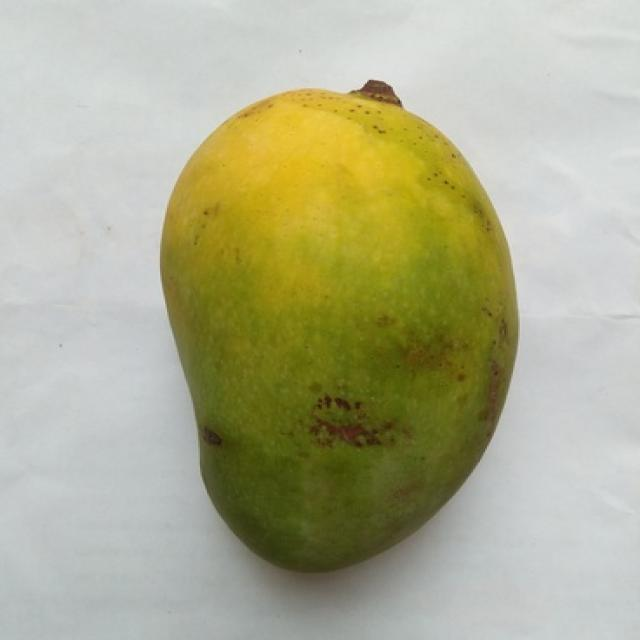Mango: (160, 81, 517, 570)
